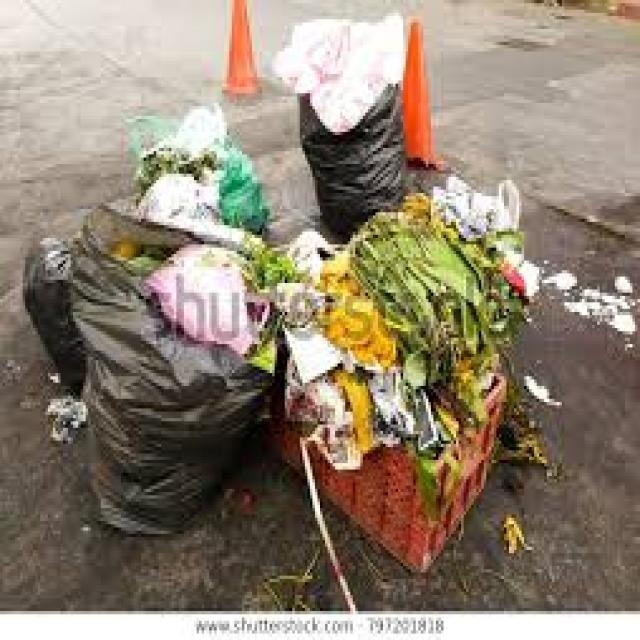Trashbag: (78, 218, 265, 535), (291, 88, 401, 230), (19, 235, 86, 392)
